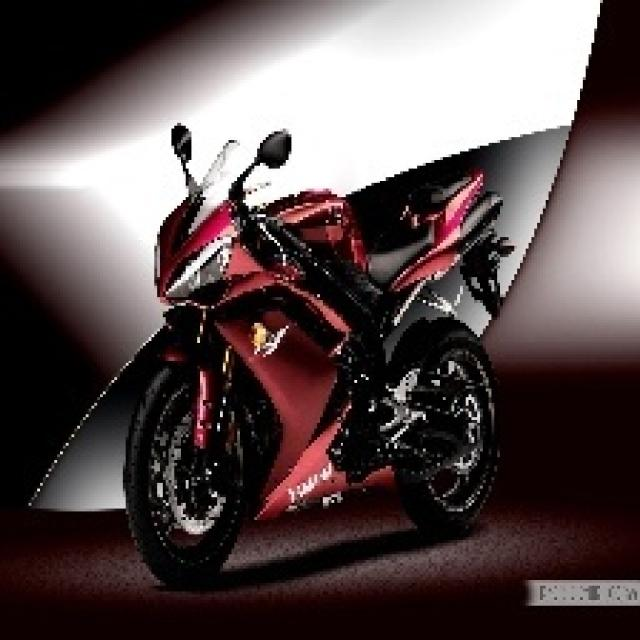motorace: (113, 104, 521, 580)
